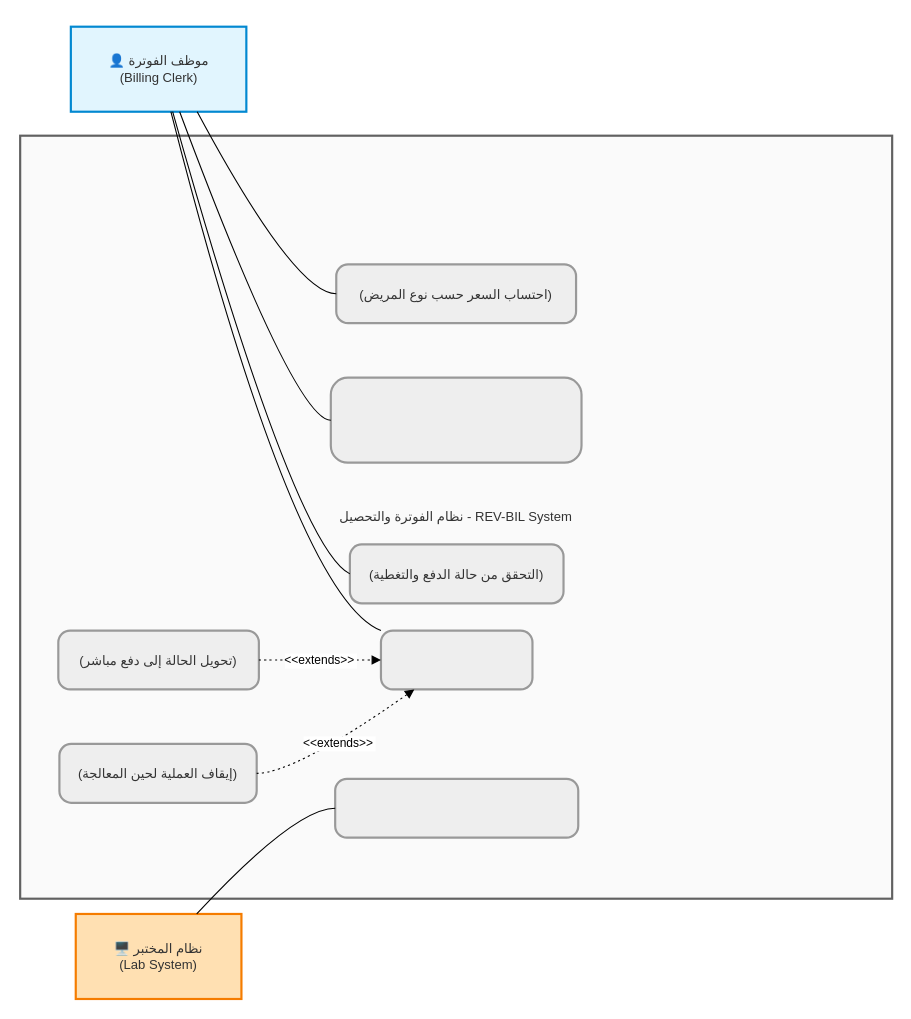
Image size: 911x1019. Some labels were removed from this diagram. Here are the shapes that lost their labels. From the top down, the centre of each, then its label:
At point (455, 419): "(تسجيل العملية المالية وربطها بالعينة والمريض)".
At point (456, 659): "(معالجة رفض الدفع)".
At point (456, 807): "(حظر إدخال أو اعتماد نتائج التحاليل)".
